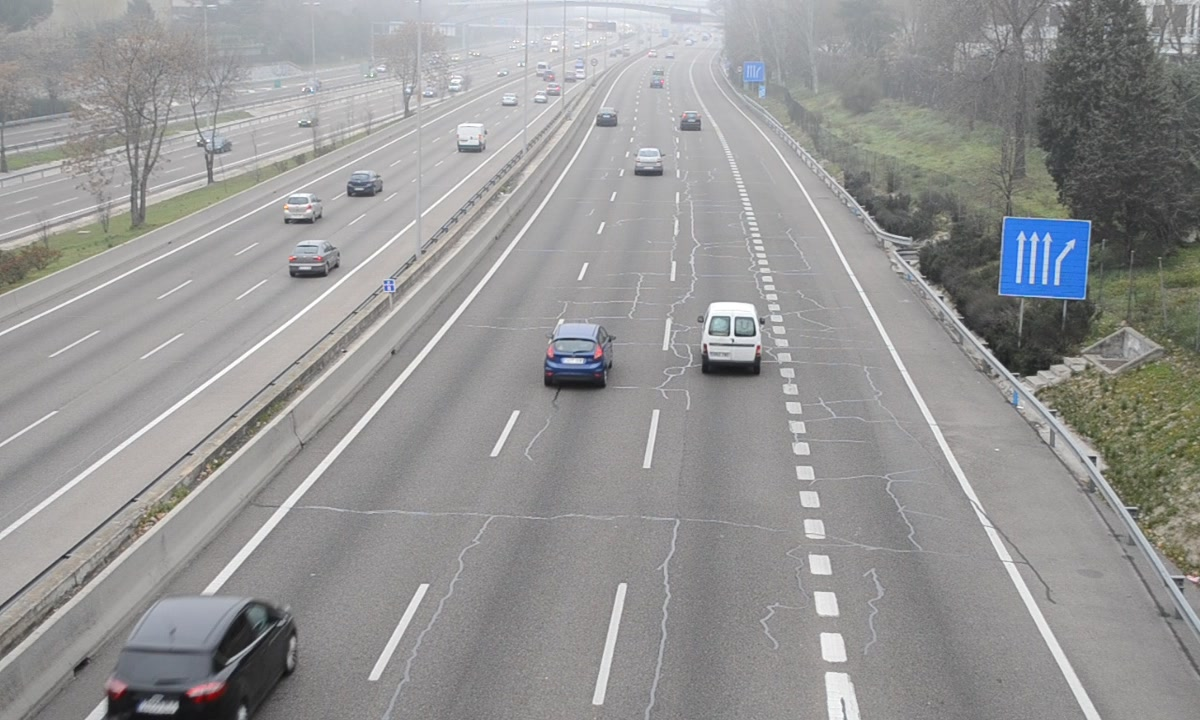car: (107, 598, 295, 720), (544, 324, 609, 387), (634, 148, 662, 176), (595, 105, 619, 128), (679, 110, 703, 132)
van: (701, 303, 761, 373)
